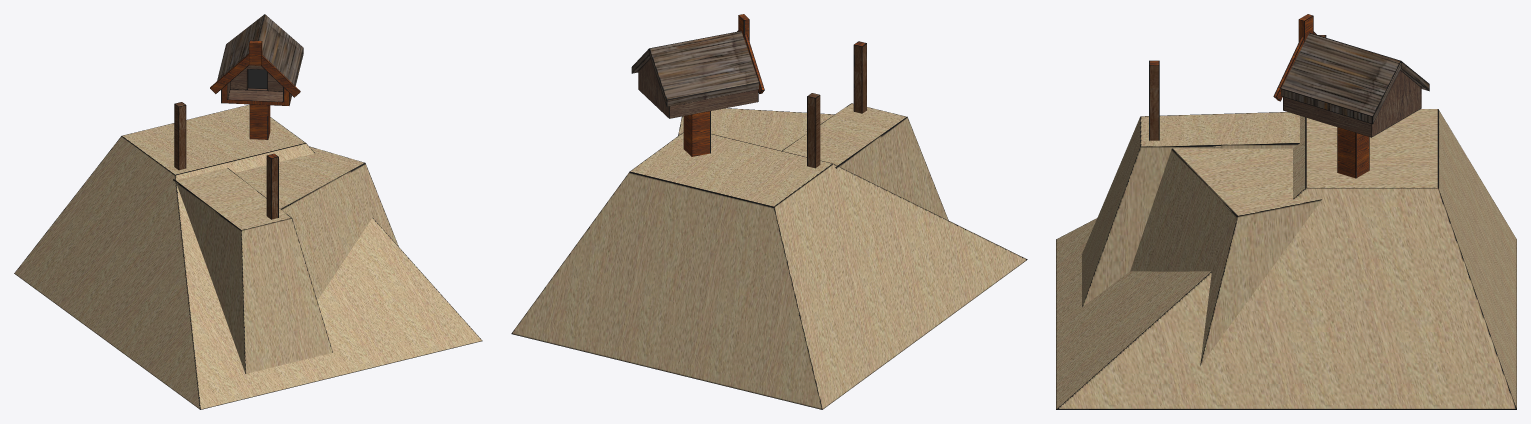
Rendered from Maori_Dock.dae.
The picture shows the model from 3 angles, left to right: view 1: azimuth 30°, elevation 25°; view 2: azimuth 150°, elevation 25°; view 3: azimuth 270°, elevation 25°; orthographic projection. The views are drawn at different scales.
Parts seen in each view (by area): view 1: Cube.002; view 2: Cube.002; view 3: Cube.002.
Boxes of the visible parts, x1,y1,x2,y2 form: Cube.002: [14, 14, 482, 409]; Cube.002: [511, 14, 1027, 409]; Cube.002: [1056, 14, 1516, 409].
Size of the model in its own units: 22.14 by 25.3 by 19.15.
Materials: 1 (1 with a texture image).
